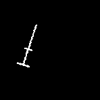double_crochet: (17, 25, 36, 66)
